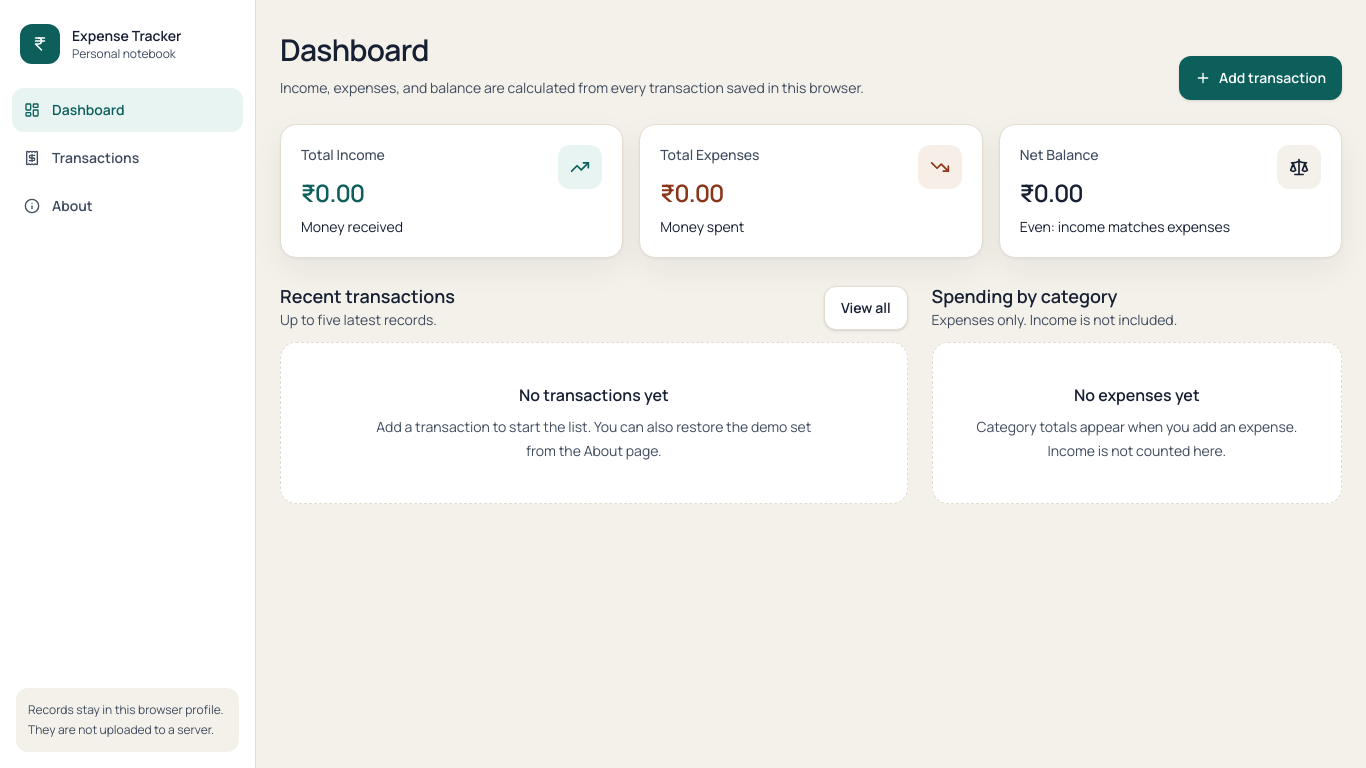
Scenario: Expense Tracker › does not seed over an empty saved list
The width and height of the screenshot is (1366, 768).
Expected: the heading "No transactions yet" is shown, [519,384,669,406]
Click the button "Transactions".
click(128, 158)  # box [12,136,243,180]
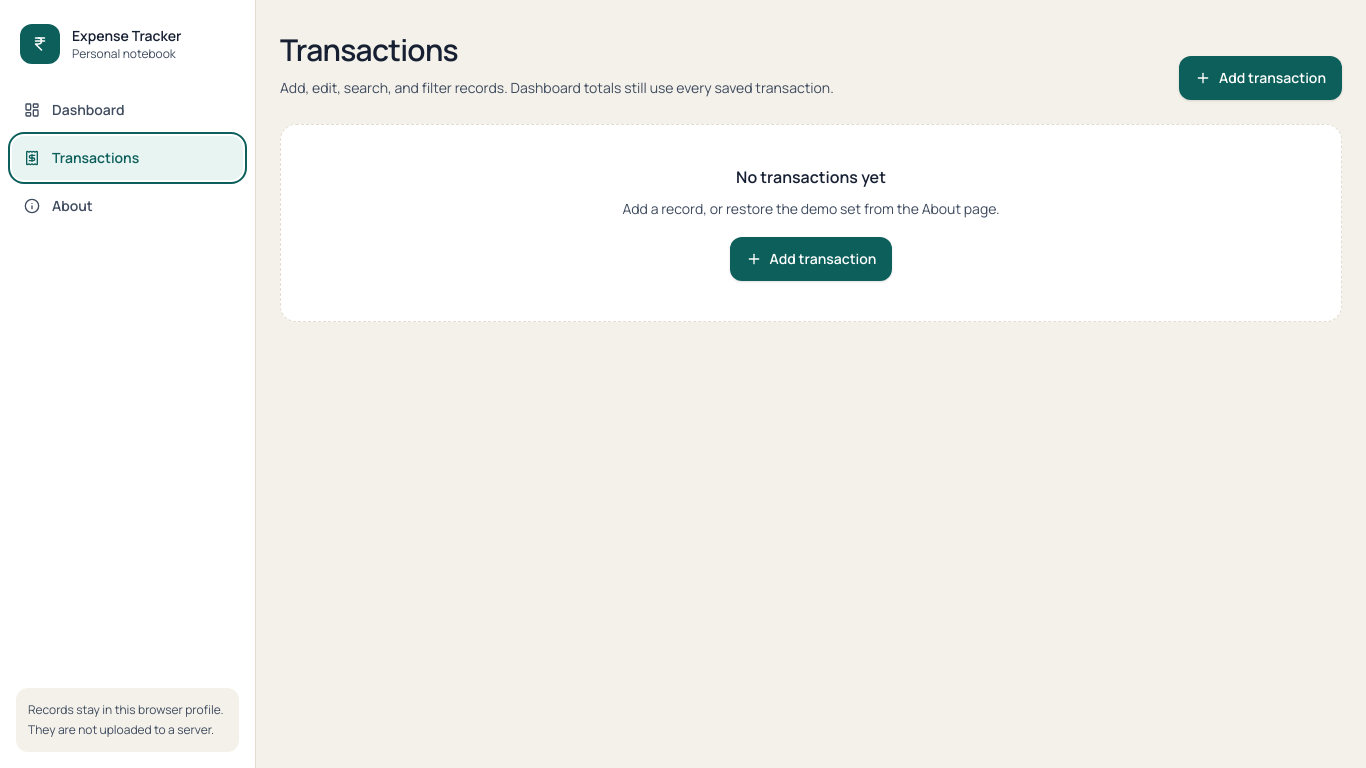
Expected: the text "Add a record, or restore the demo set from the About page." is shown, [622,199,1000,218]
